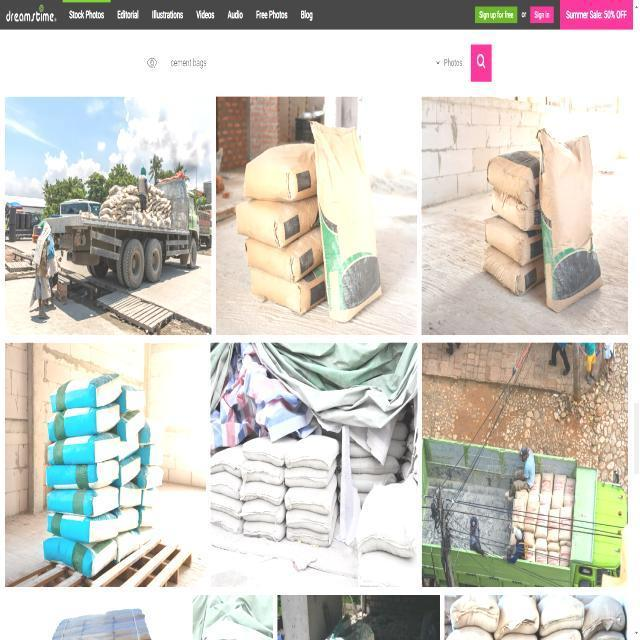gunny_bag: (311, 121, 382, 321), (538, 127, 604, 311), (245, 225, 323, 281), (243, 141, 317, 200), (236, 194, 318, 247), (250, 267, 327, 313), (483, 245, 545, 295), (488, 149, 541, 206), (486, 215, 544, 265), (47, 402, 119, 441), (50, 372, 120, 412), (286, 498, 339, 547), (47, 433, 120, 465), (46, 485, 118, 517), (47, 512, 118, 543), (493, 187, 542, 230), (285, 434, 340, 470), (284, 478, 337, 515), (286, 497, 337, 534), (240, 438, 295, 469), (284, 459, 336, 488), (210, 444, 246, 478), (240, 498, 286, 524), (240, 481, 288, 505), (241, 460, 284, 485), (210, 471, 242, 500), (210, 491, 243, 518), (243, 521, 286, 541)
